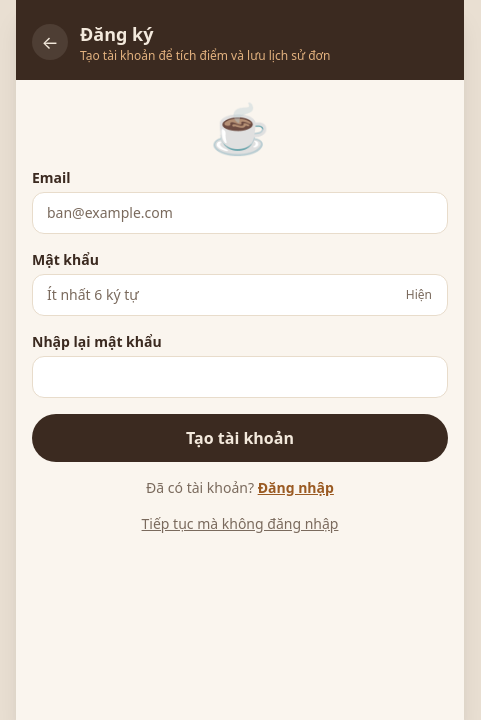
Test case: Đăng ký › báo lỗi từng ô khi nhập sai, không gọi đăng ký
The width and height of the screenshot is (481, 720).
Type "sai-email" into the field labelled "Email".
click(240, 213); type("sai-email")  # box [32,192,448,234]
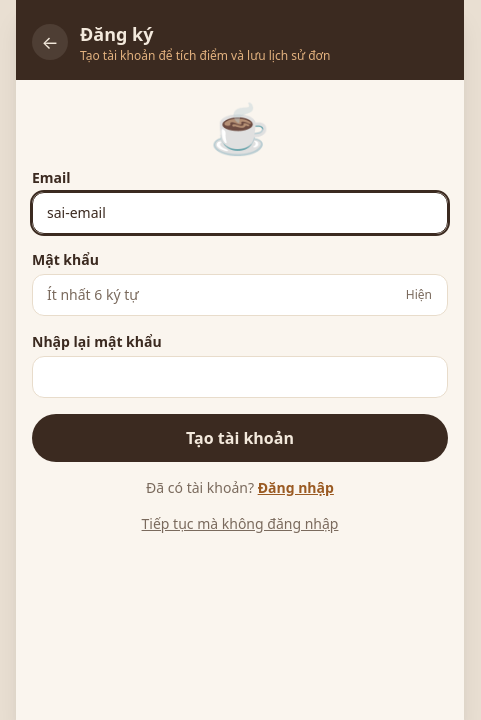
Type "123" into the password field labelled "Mật khẩu".
click(240, 295); type("123")  # box [32,274,448,316]
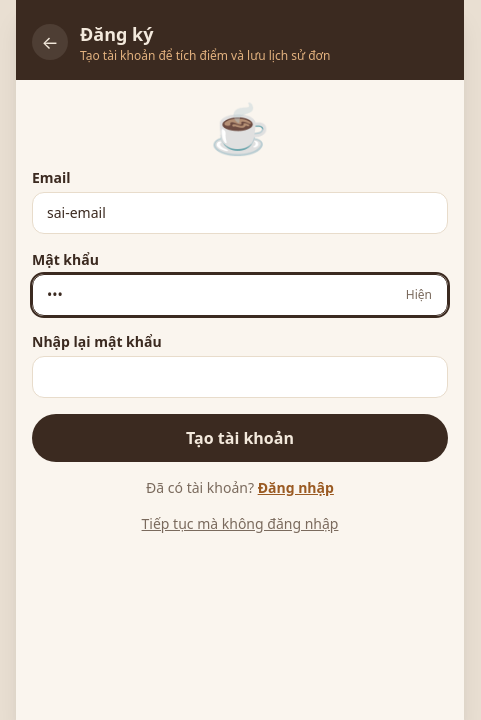
Type "456" into the password field labelled "Nhập lại mật khẩu".
click(240, 377); type("456")  # box [32,356,448,398]
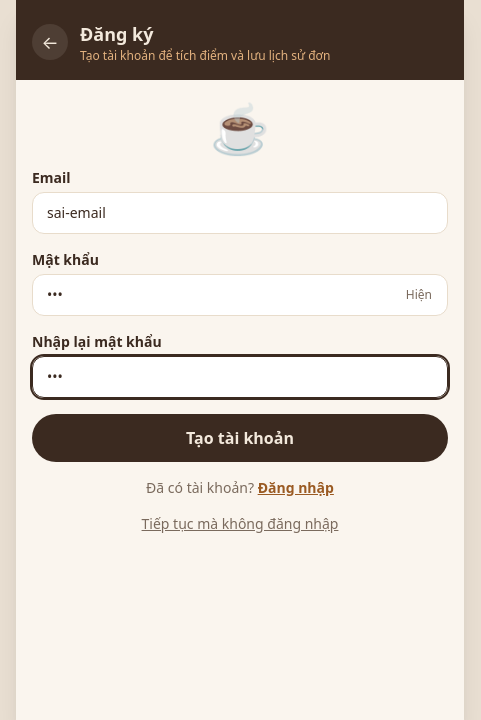
Click the button "Tạo tài khoản".
click(240, 438)  # box [32,414,448,462]
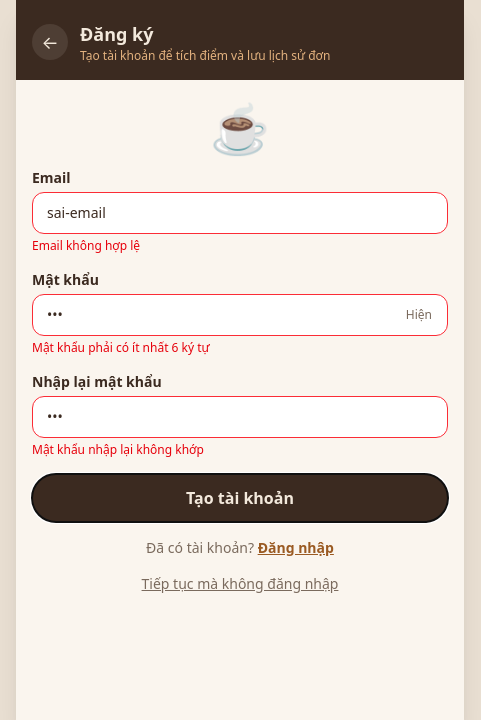
Check: the text "Email không hợp lệ" is shown, box [32,237,140,254]
Check: the text "Mật khẩu phải có ít nhất 6 ký tự" is shown, box [32,339,210,356]
Check: the text "Mật khẩu nhập lại không khớp" is shown, box [32,441,204,458]
